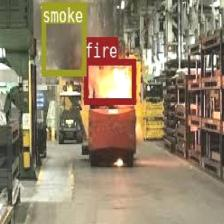fire: (83, 58, 136, 103)
smoke: (40, 0, 86, 74)
